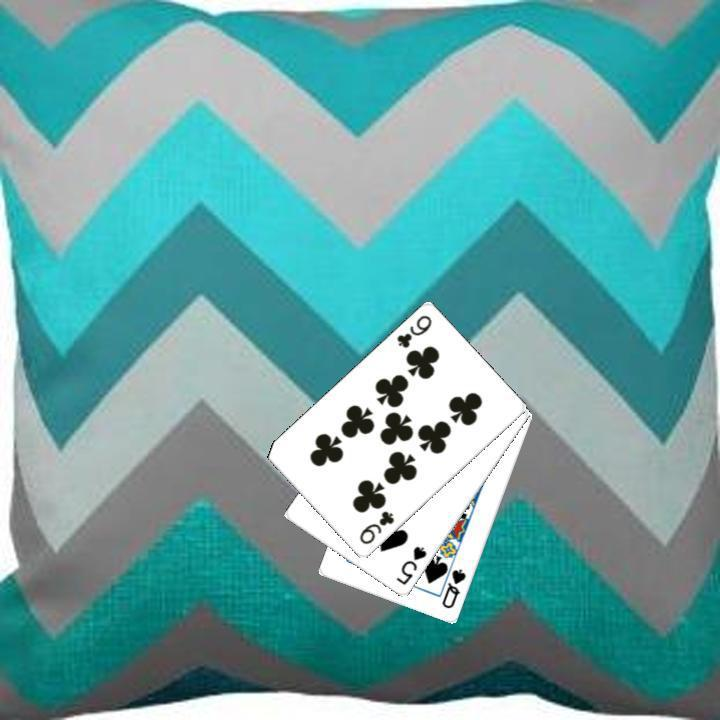5: (392, 542, 429, 588)
9: (392, 311, 434, 351), (355, 507, 396, 547)
Q: (437, 565, 468, 611)
